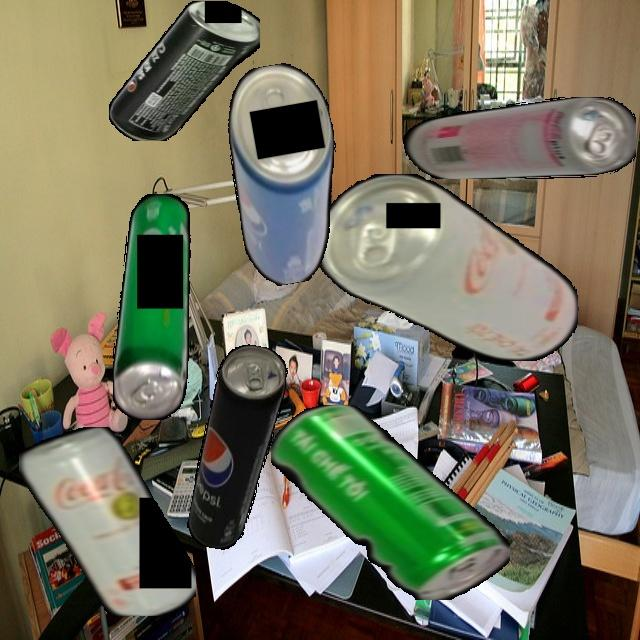debris: (317, 173, 579, 361), (271, 404, 510, 600), (18, 427, 196, 616), (215, 57, 358, 290), (184, 340, 291, 555), (109, 0, 260, 141), (398, 97, 636, 179), (112, 193, 192, 420)
